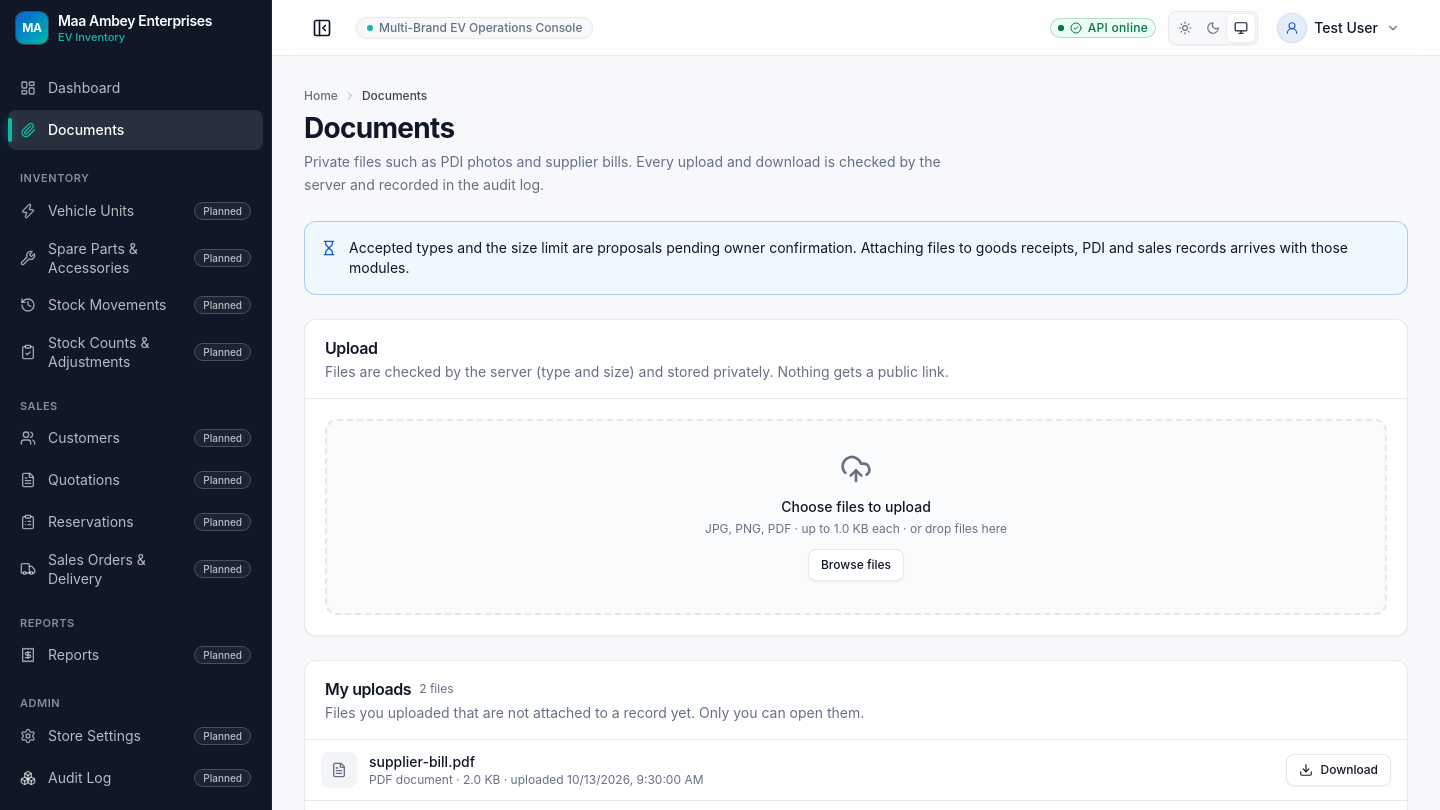
Test: my uploads › lists documents and reports a refused download
Check: the text "supplier-bill.pdf" is shown, box [369,753,475,770]
Check: the text "PDF document · 2.0 KB · uploaded 10/13/2026, 9:30:00 AM" is shown, box [369,772,704,788]
Click the button with aria-label "Download supplier-bill.pdf" at (1338, 770), box [1286,754,1391,786]
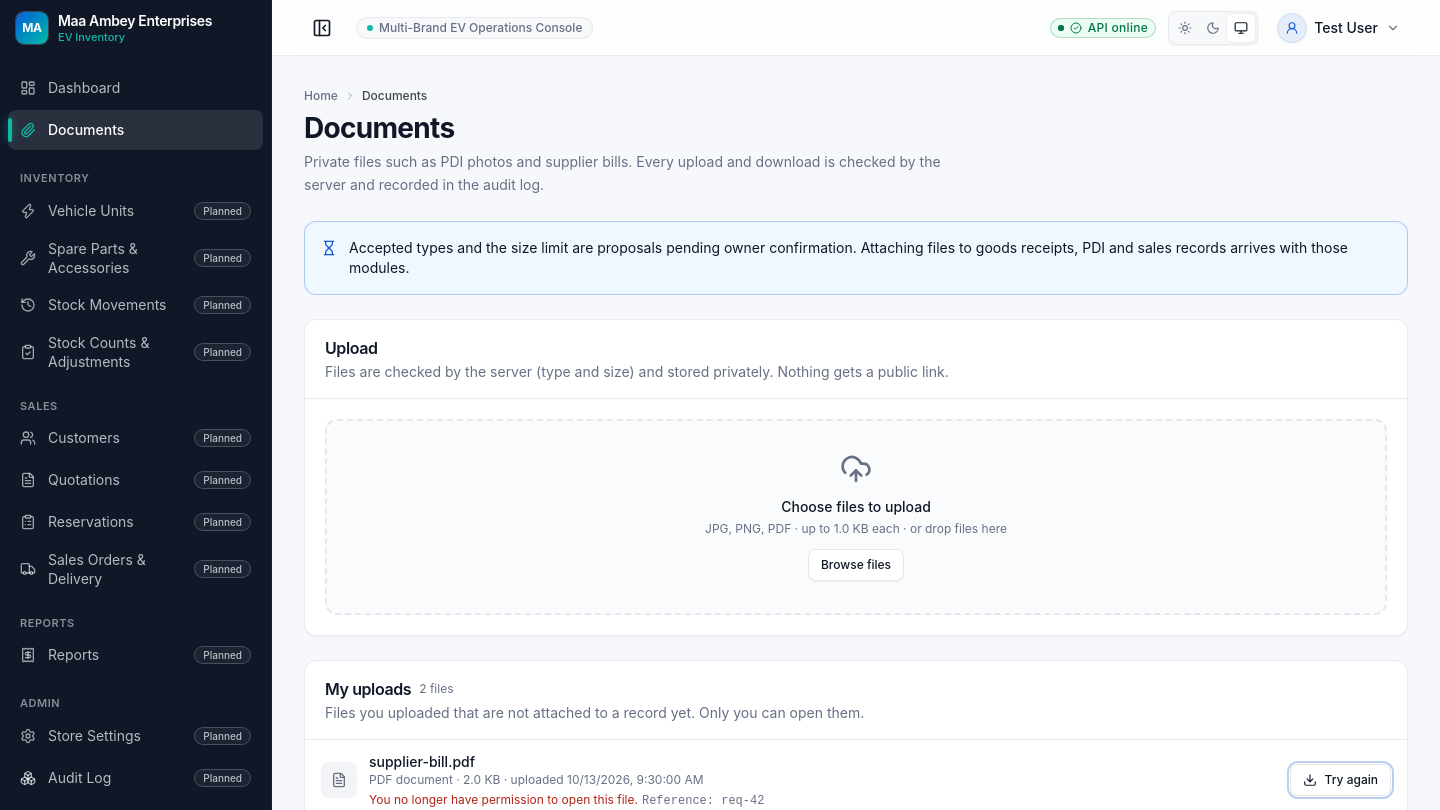
Check: the text "You no longer have permission to open this file." is shown, box [369,792,638,807]
